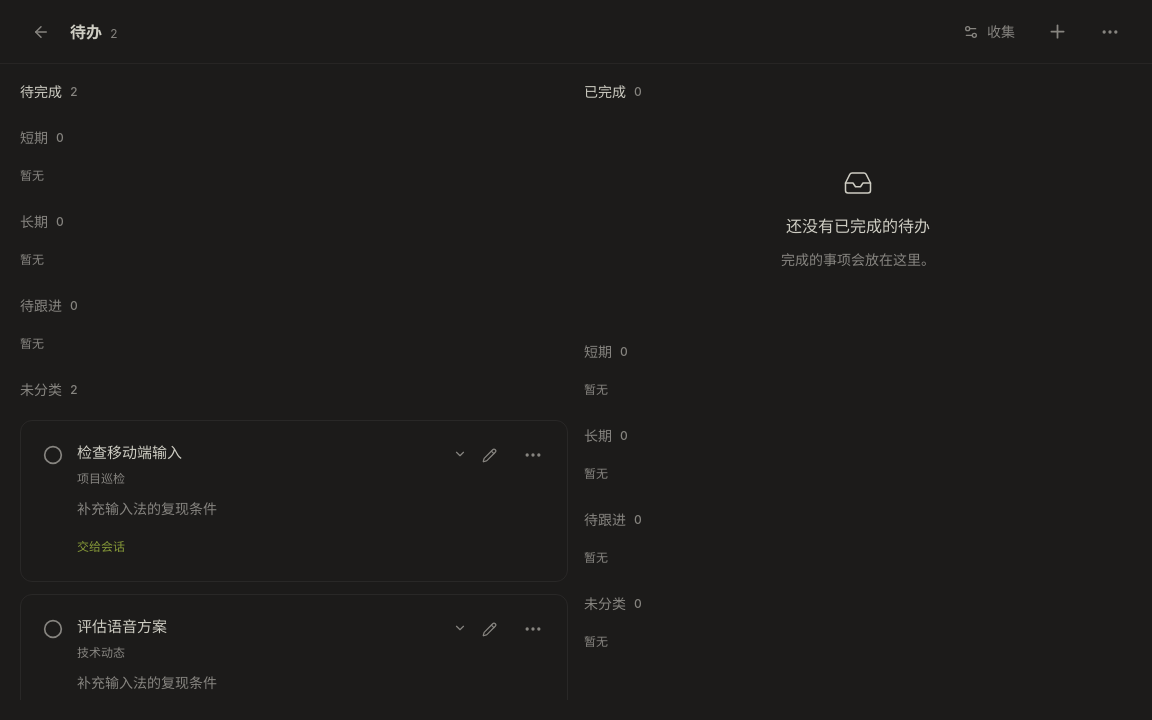
Test case: opens the empty management page without immediately creating or running a direction
Expected: the text "检查移动端输入" is shown, [77, 443, 182, 462]
Click the button with aria-label "管理收集方向".
click(989, 32)  # box [951, 10, 1027, 54]
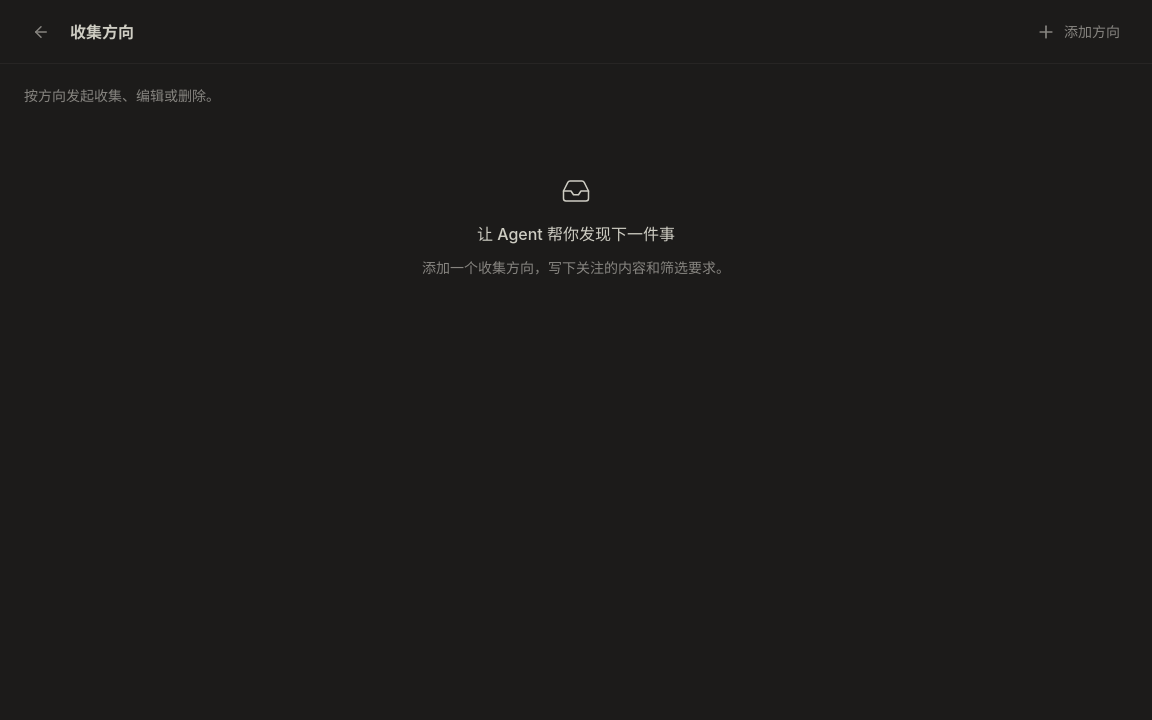
Result: the button "添加方向" is shown at [1024, 10, 1132, 54]
